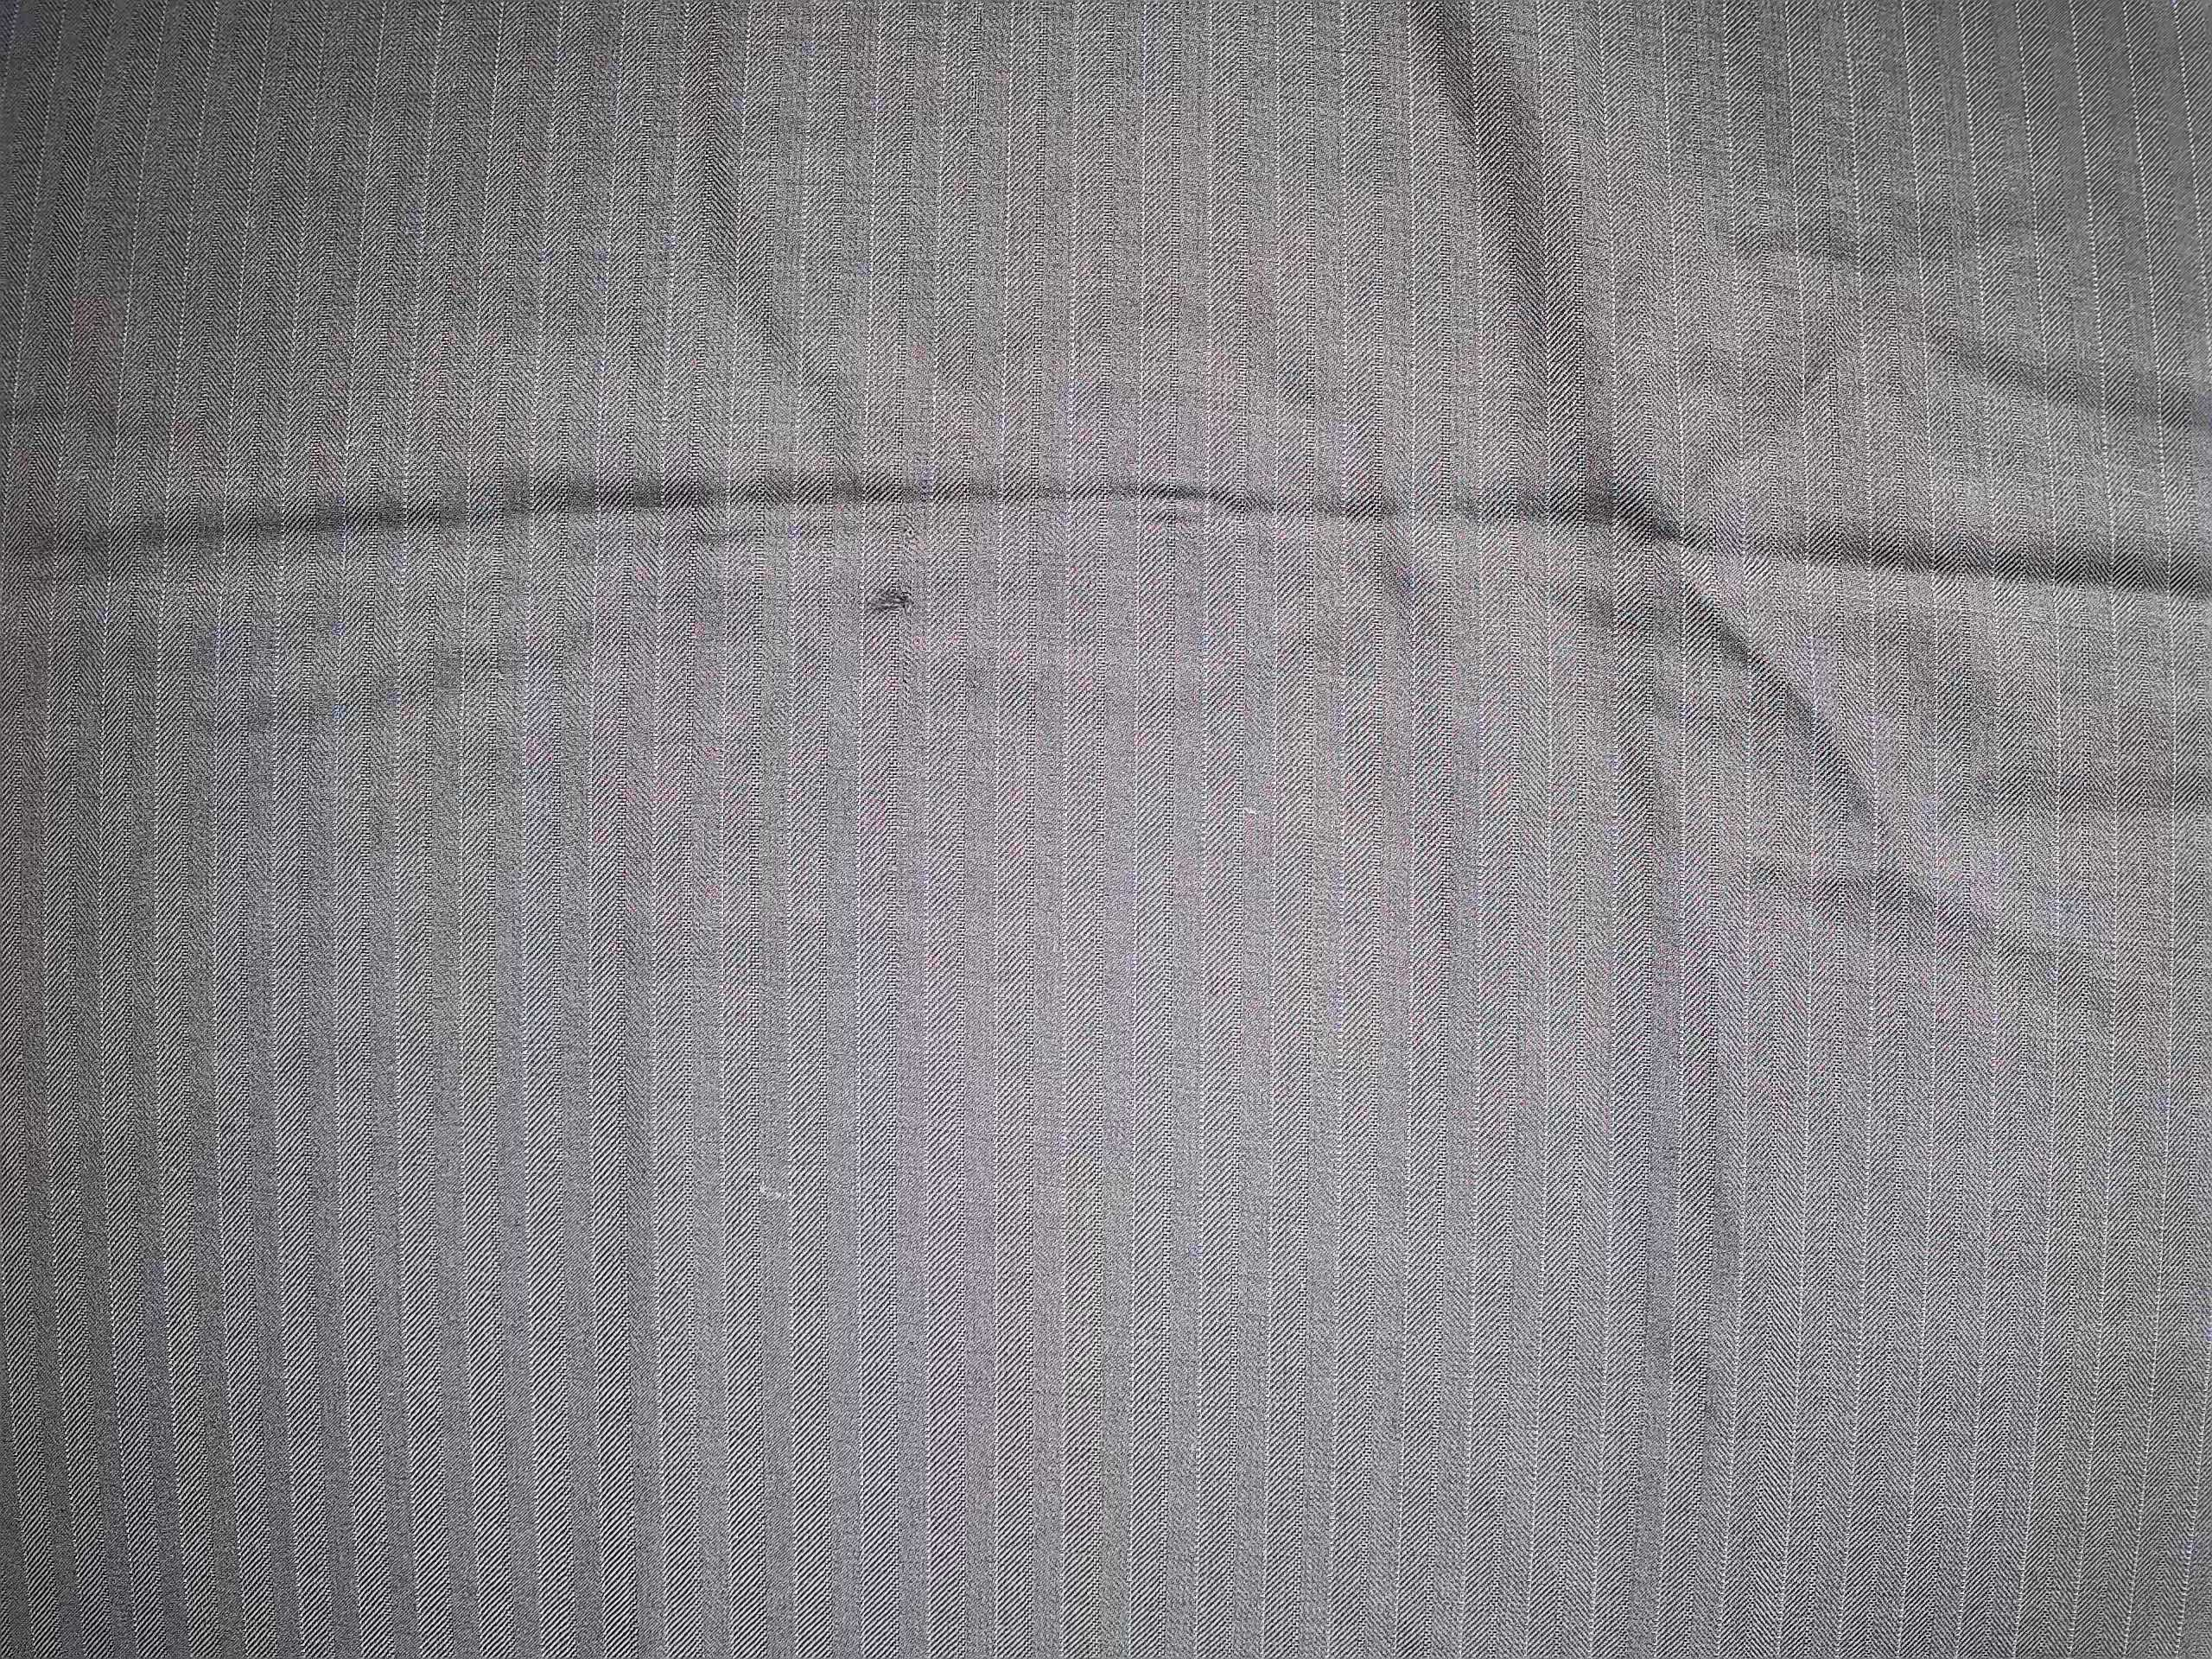puncture-hole: (840, 563, 939, 643)
